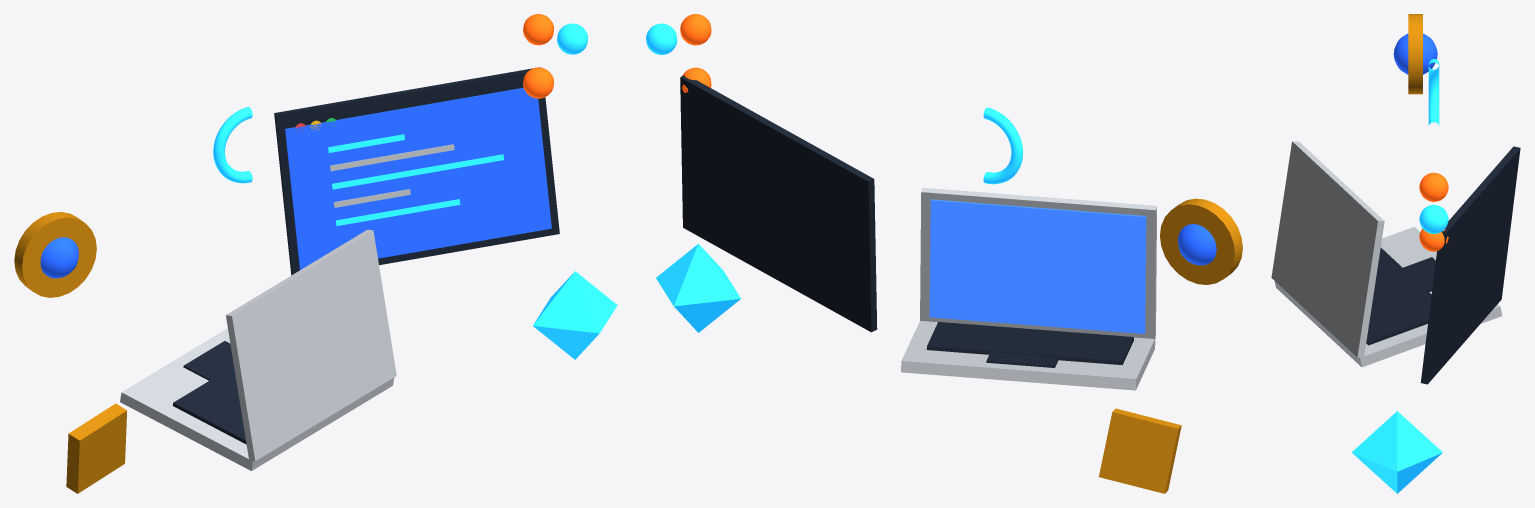
Rendered from programming-club.glb.
3 renders of one model, left to right at view 1: azimuth 30°, elevation 25°; view 2: azimuth 150°, elevation 25°; view 3: azimuth 270°, elevation 25°, orthographic. The views are drawn at different scales.
Parts seen in each view (by area): view 1: code_window, laptop, python_badge, cpp_badge, js_badge, git_node, object 7; view 2: laptop, code_window, python_badge, js_badge, cpp_badge, git_node, object 7; view 3: laptop, code_window, cpp_badge, python_badge, git_node, object 7.
Boxes of the visible parts, x1,y1,x2,y2 form: code_window: (274,67,559,275); laptop: (120,229,396,470); python_badge: (14,212,96,297); cpp_badge: (533,271,617,359); js_badge: (66,403,126,493); git_node: (523,14,587,98); object 7: (213,107,252,183); laptop: (901,187,1156,390); code_window: (680,75,877,332); python_badge: (1160,198,1242,284); js_badge: (1099,408,1181,493); cpp_badge: (656,244,740,332); git_node: (646,14,711,92); object 7: (983,107,1022,184); laptop: (1271,141,1502,367); code_window: (1420,146,1520,384); cpp_badge: (1352,411,1442,493); python_badge: (1393,14,1437,94); git_node: (1419,172,1448,251); object 7: (1428,59,1439,125).
Bounding box in the file's own units: 3.47 × 2.03 × 1.36.
